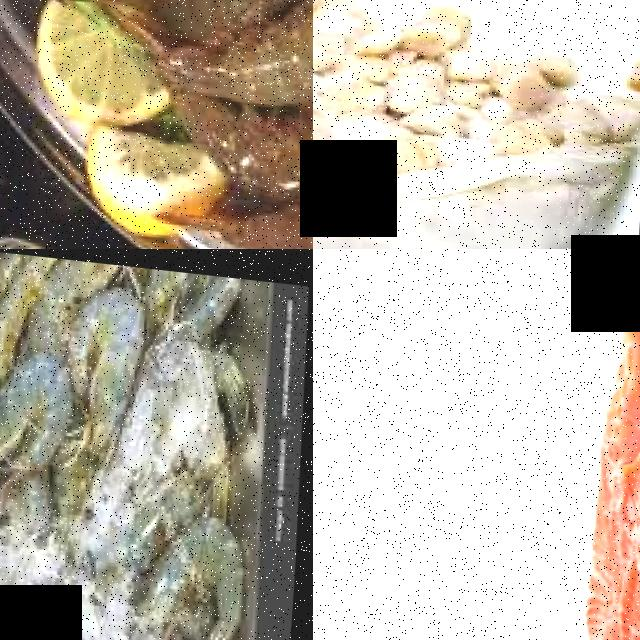lemon: (90, 119, 218, 220), (38, 0, 142, 124)
sea scallops: (488, 48, 554, 97), (358, 125, 431, 168)
shrimp: (142, 492, 257, 640), (63, 272, 150, 440), (0, 350, 70, 476)
